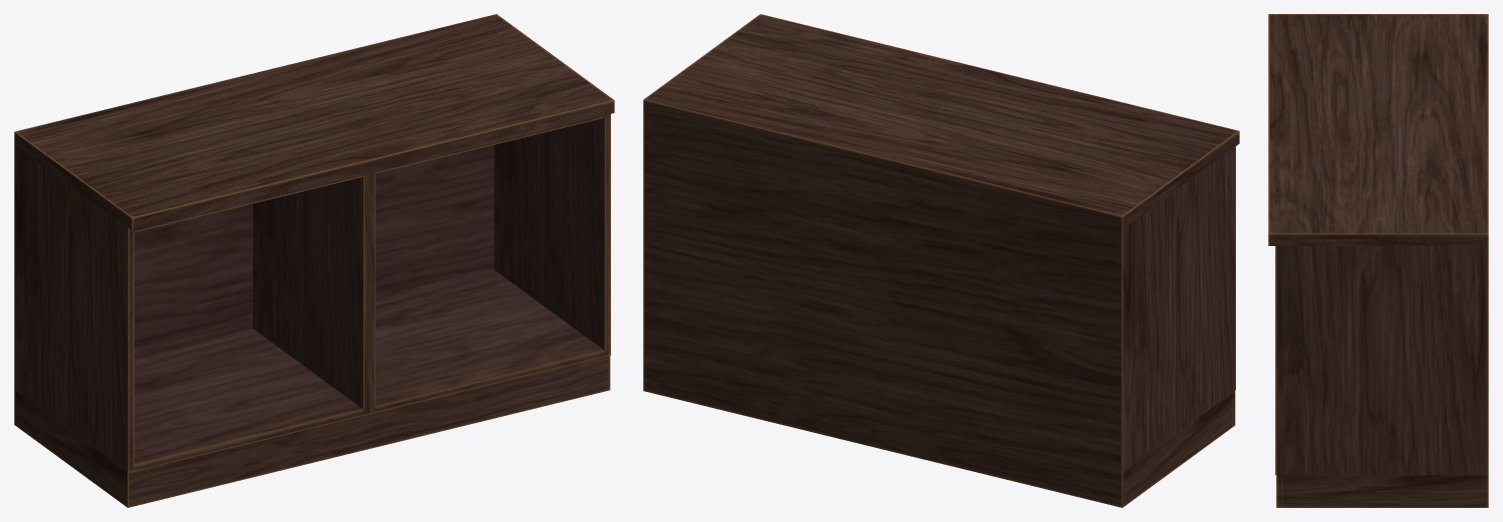
Rendered from Cabinet.fbx.
3 renders of one model, left to right at view 1: azimuth 30°, elevation 25°; view 2: azimuth 150°, elevation 25°; view 3: azimuth 270°, elevation 25°, orthographic. The views are drawn at different scales.
Parts seen in each view (by area): view 1: Body; view 2: Body; view 3: Body.
Part boxes in pixels (x1,y1,x2,y2): Body: [14, 14, 614, 507]; Body: [643, 14, 1239, 507]; Body: [1268, 14, 1488, 507].
Bounding box in the file's own units: 144 × 83.6 × 61.
1 material, 1 textured.
